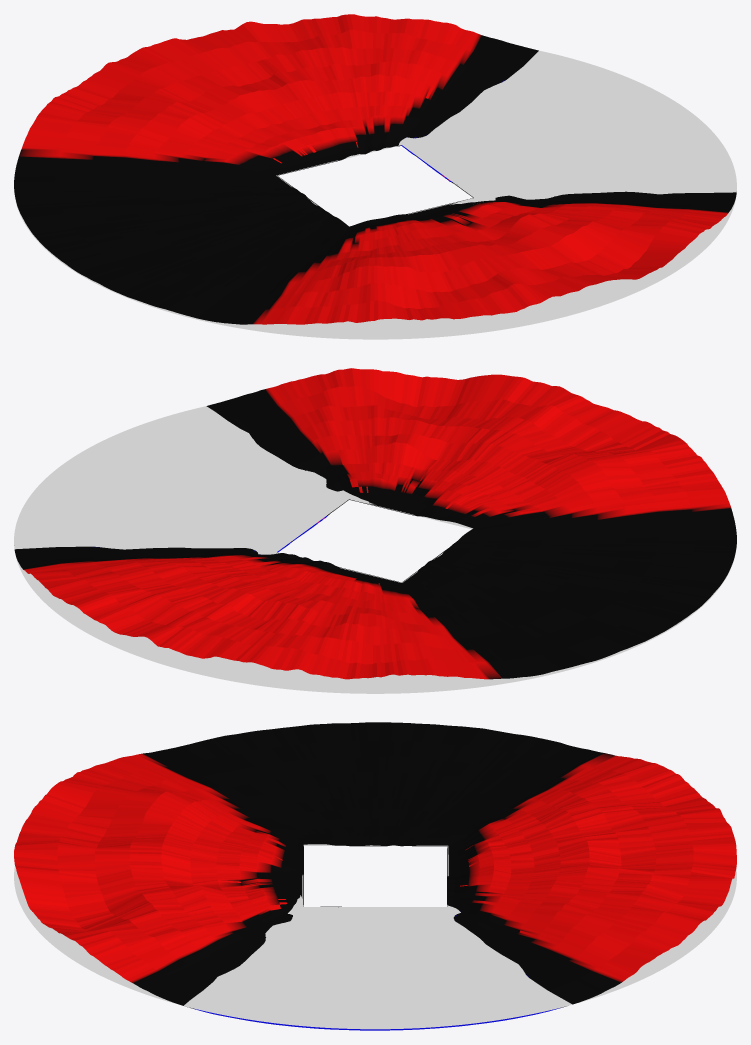
Rendered from world_backdrop_2km.glb.
The picture shows the model from 3 angles, top to bottom: view 1: azimuth 30°, elevation 25°; view 2: azimuth 150°, elevation 25°; view 3: azimuth 270°, elevation 25°; orthographic projection.
Parts seen in each view (by area): view 1: backdrop, backdrop sea; view 2: backdrop, backdrop sea; view 3: backdrop, backdrop sea.
Part boxes in pixels (x1,y1,x2,y2): backdrop: [14, 14, 736, 324]; backdrop sea: [14, 50, 736, 339]; backdrop: [14, 368, 736, 679]; backdrop sea: [14, 406, 736, 693]; backdrop: [14, 722, 736, 1030]; backdrop sea: [14, 844, 736, 1029].
Bounding box in the file's own units: 10000 × 432 × 10000.
